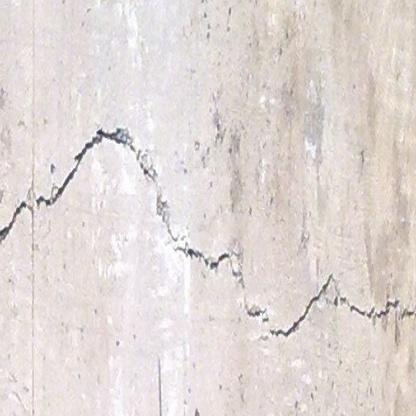Cracks: (33, 124, 142, 211), (153, 188, 242, 281), (242, 271, 339, 343), (337, 292, 416, 325), (0, 199, 32, 248), (137, 159, 159, 185)
